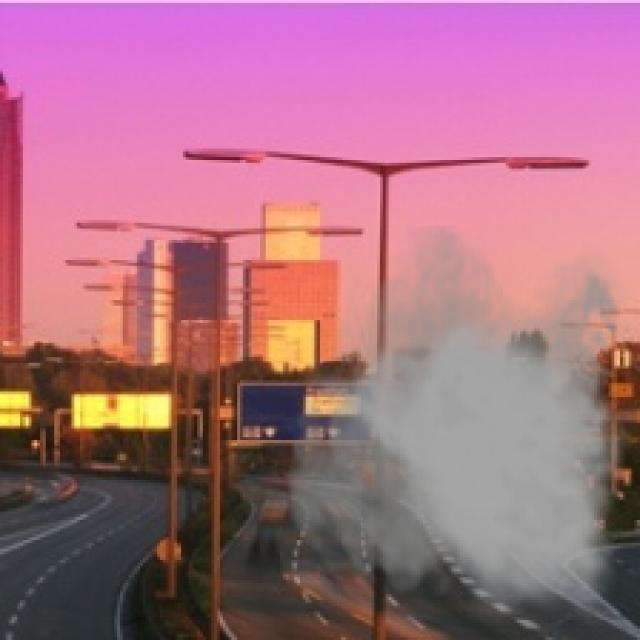Smoke: (283, 225, 632, 626)
